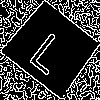L: (27, 23, 77, 77)
